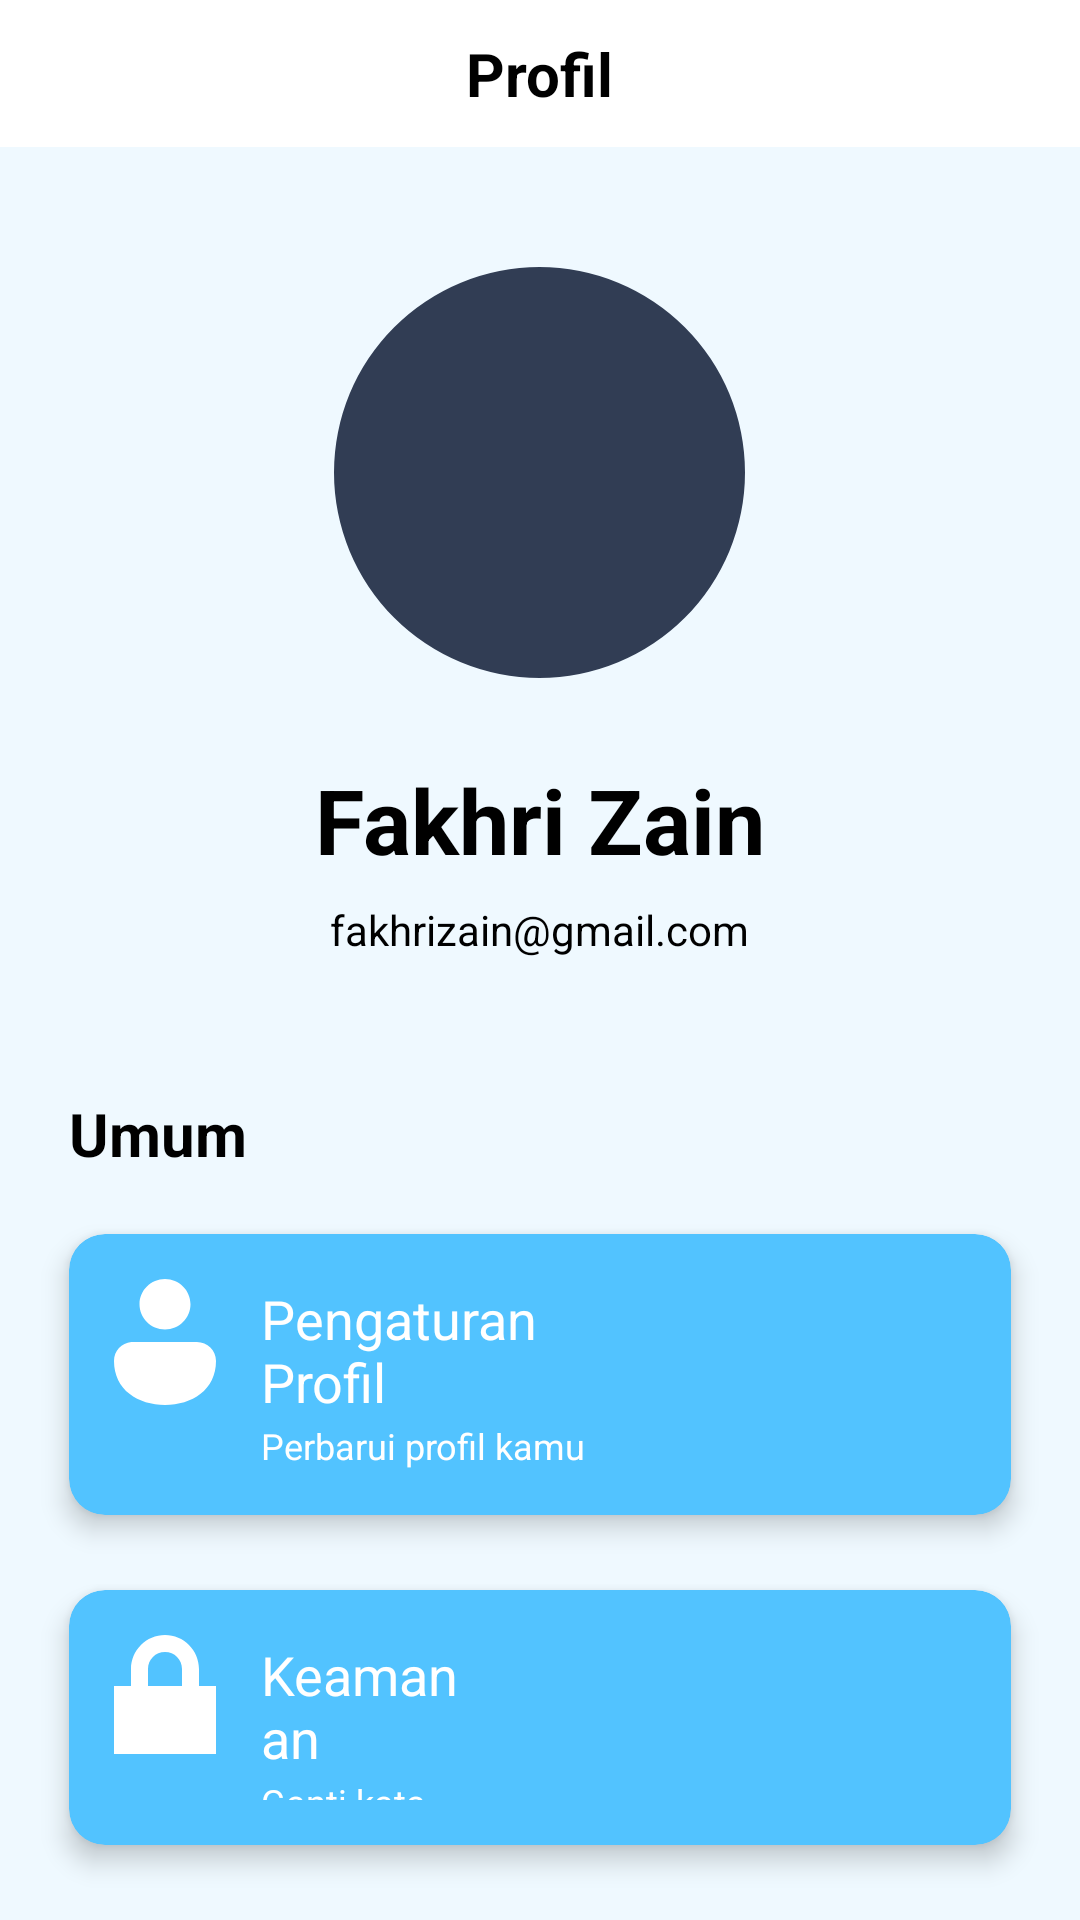

Point at icon controls on the screen. Image size 1080x1920, points as point (x, y).
lock: point (165, 1694)
